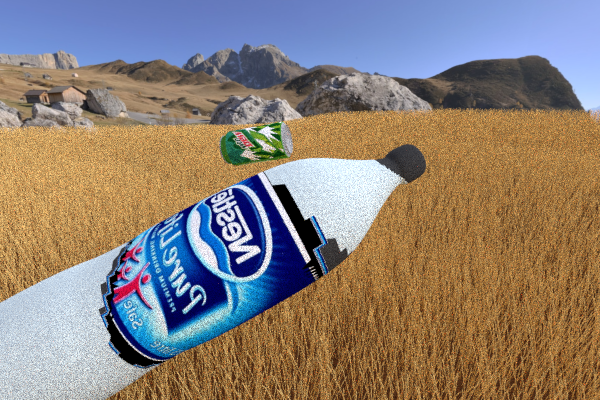Plastic Bottle: (0, 144, 426, 400), (219, 121, 292, 165), (380, 120, 408, 148)
